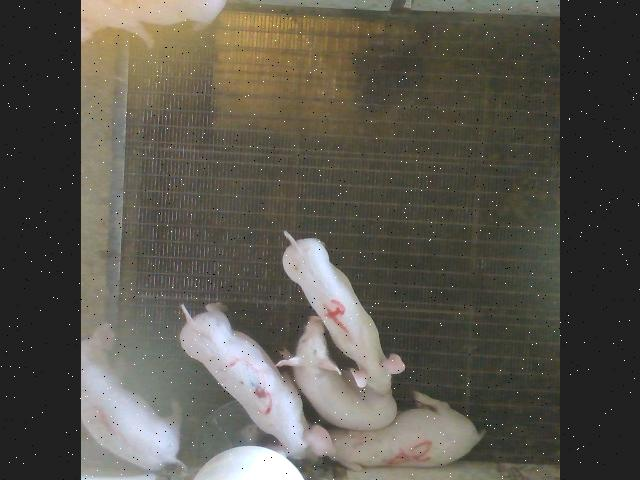pig-1: (81, 362, 179, 471)
pig-2: (82, 0, 224, 45)
pig-3: (179, 304, 334, 459)
pig-4: (282, 231, 404, 394)
pig-5: (329, 391, 482, 470)
